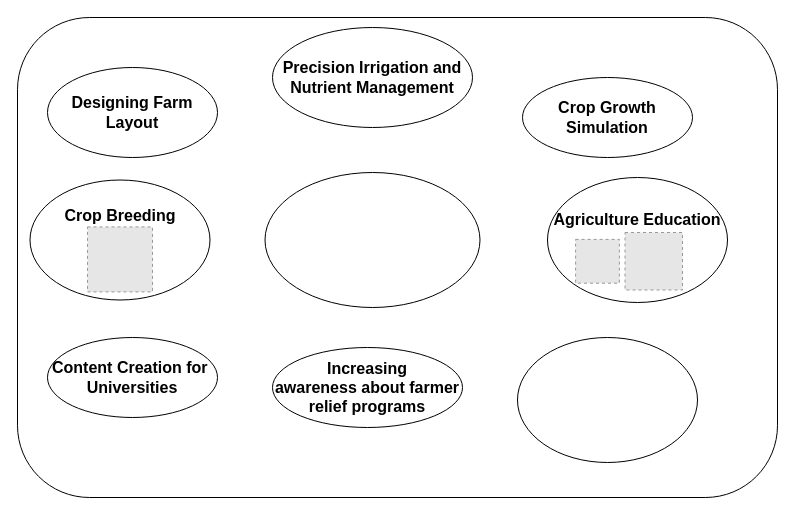
This 795x515 diagram has some shape labels left out. Grey dashed boxes stand in for pictures. The centre of each missing label's shape, as x and y in pixels:
Applications of GAI in Agriculture 4.0: the point at 372,240
Personalised Advisor for farmers: the point at 607,399
